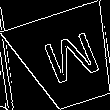M_S: (33, 27, 102, 91)
